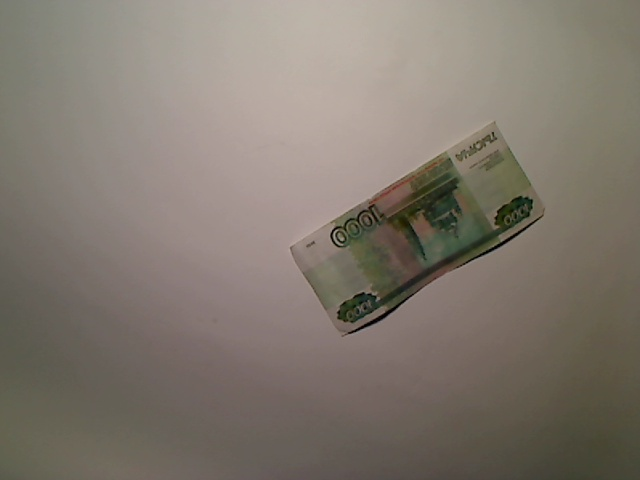banknotes: (285, 115, 551, 341)
